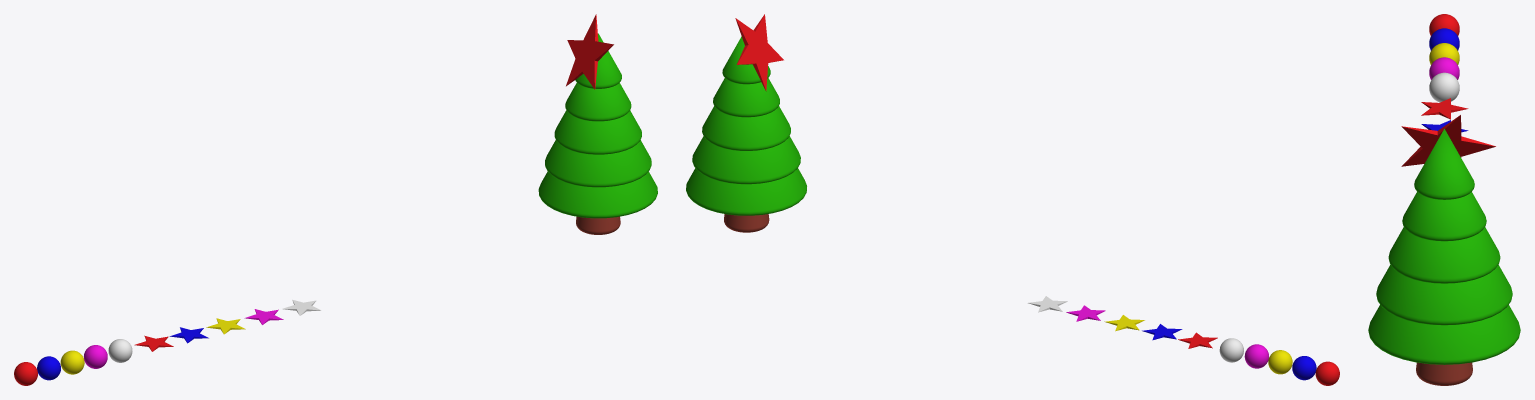
The model's file is Christmas_tree.gltf.
3 views of the same model, side by side, from view 1: azimuth 30°, elevation 25°; view 2: azimuth 150°, elevation 25°; view 3: azimuth 270°, elevation 25° (orthographic). The views are drawn at different scales.
Parts seen in each view (by area): view 1: Cone, Plane; view 2: Cone, Plane; view 3: Cone, Plane, Sphere.004, Plane.001, Sphere.003, Sphere.001, Sphere, Sphere.002, Plane.002.
Part boxes in pixels (left/top/right/bottom): Cone: left=538, top=33, right=657, bottom=234; Plane: left=566, top=14, right=613, bottom=89; Cone: left=686, top=36, right=806, bottom=232; Plane: left=735, top=14, right=783, bottom=91; Cone: left=1368, top=129, right=1520, bottom=385; Plane: left=1401, top=115, right=1495, bottom=166; Sphere.004: left=1429, top=72, right=1459, bottom=102; Plane.001: left=1421, top=98, right=1468, bottom=119; Sphere.003: left=1429, top=57, right=1459, bottom=79; Sphere.001: left=1429, top=28, right=1459, bottom=50; Sphere: left=1429, top=14, right=1459, bottom=35; Sphere.002: left=1429, top=43, right=1459, bottom=64; Plane.002: left=1421, top=120, right=1468, bottom=132.
Bounding box in the file's own units: 11.82 × 4.01 × 1.93.
